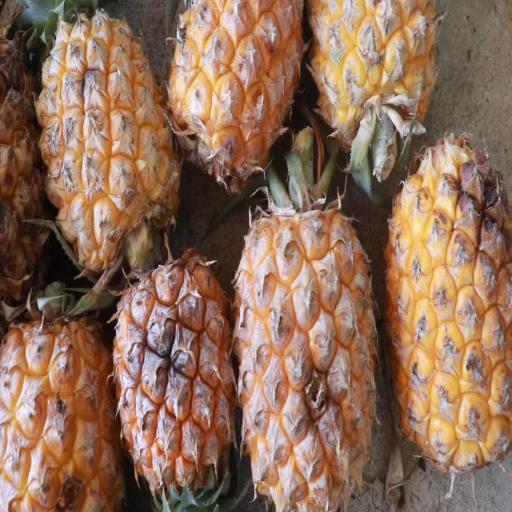Pineapple - v8 v1: (229, 149, 381, 512), (381, 128, 512, 484), (31, 0, 183, 290), (112, 243, 237, 510), (0, 295, 125, 512), (162, 0, 303, 189), (302, 0, 443, 165)
